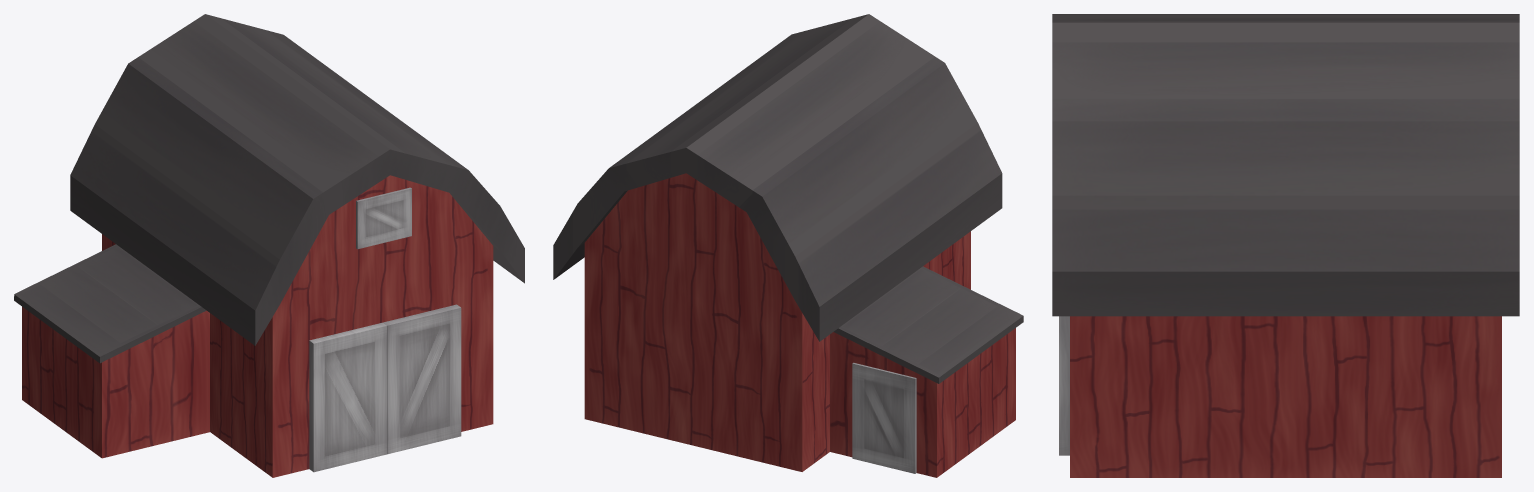
The model's file is BarnHouse2.FBX.
The picture shows the model from 3 angles, left to right: view 1: azimuth 30°, elevation 25°; view 2: azimuth 150°, elevation 25°; view 3: azimuth 270°, elevation 25°; orthographic projection. The views are drawn at different scales.
Visible parts, largest first — view 1: Barn, FrontDoor, Window; view 2: Barn, BackDoor; view 3: Barn, FrontDoor.
Part boxes in pixels (bbox=[...]): Barn: bbox=[14, 14, 524, 477]; FrontDoor: bbox=[309, 304, 461, 472]; Window: bbox=[356, 187, 411, 249]; Barn: bbox=[553, 14, 1023, 477]; BackDoor: bbox=[852, 362, 916, 473]; Barn: bbox=[1052, 14, 1519, 477]; FrontDoor: bbox=[1059, 316, 1069, 455].
Bounding box in the file's own units: 728 × 596 × 652.
